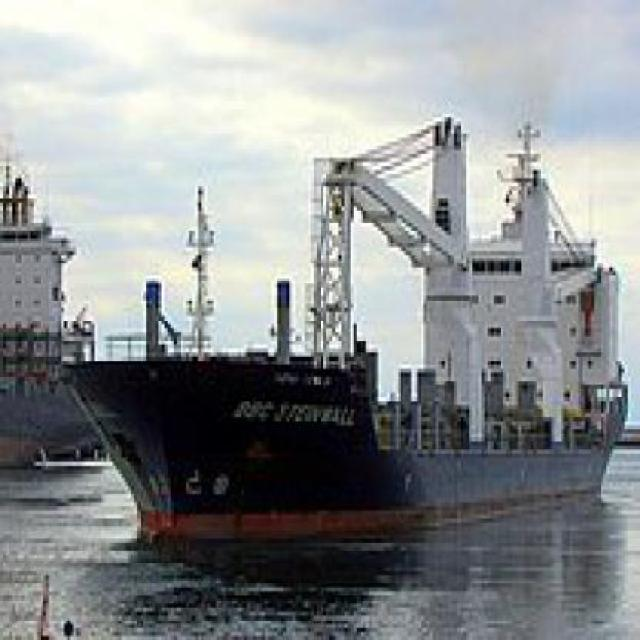container: (53, 106, 636, 557)
